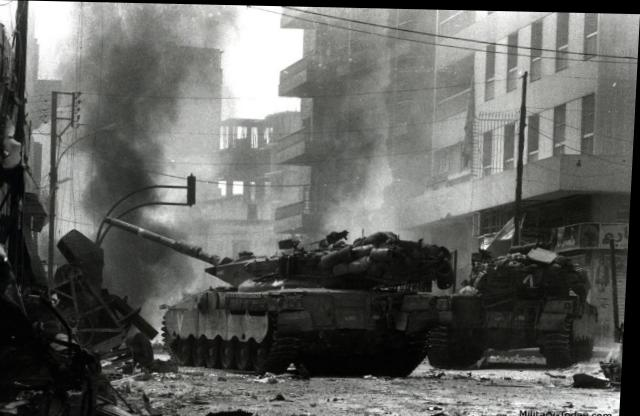other: (147, 232, 440, 376), (446, 226, 619, 370)
